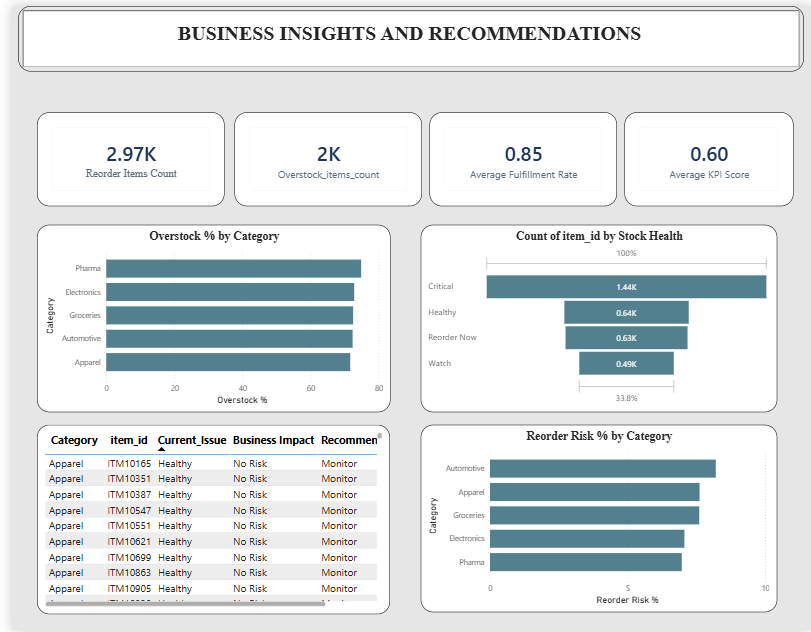

What the dashboard file says about the page in this screenshot:
{"tool":"powerbi","page":{"name":"Page 4","canvas":[1280,1000],"ordinal":3},"visuals":[{"type":"shape","box":[10,0,1256.7,105],"z":0},{"type":"textbox","box":[21.4,20,1228.6,72.9],"z":1000},{"type":"cardVisual","fields":{"Data":["Measures (2).Reorder Items Count"]},"box":[40,170,300,150],"z":2000},{"type":"cardVisual","fields":{"Data":["Measures (2).Overstock_items_count"]},"box":[355,170,300,150],"z":3000},{"type":"cardVisual","fields":{"Data":["Measures (2).Average Fulfillment Rate"]},"box":[668.3,170,300,150],"z":4000},{"type":"cardVisual","fields":{"Data":["Measures (2).Average KPI Score"]},"box":[980,170,270,150],"z":5000},{"type":"tableEx","fields":{"Values":["logistics_dataset.category","logistics_dataset.item_id","logistics_dataset.Current_Issue","logistics_dataset.Business Impact","logistics_dataset.Recommended Action"]},"box":[40,670,565,303.3],"z":6000},{"type":"clusteredBarChart","fields":{"Category":["logistics_dataset.category"],"Y":["Measures (2).Overstock %"]},"box":[40,350,565.7,300],"z":7000},{"type":"clusteredBarChart","fields":{"Category":["logistics_dataset.category"],"Y":["Measures (2).Reorder Risk %"]},"box":[654.3,670,570,300],"z":8000},{"type":"funnel","fields":{"Category":["logistics_dataset.Stock Health"],"Y":["Count(logistics_dataset.item_id)"]},"box":[654.3,350,570,300],"z":9000}]}

Visuals, with their boxes in screenshot pixels (x1, y1, x2, y2), scaled from the page's 1280x1000 canvas onto the 811x632 screenshot:
shape: 6/0/803/66
textbox: 14/13/792/59
cardVisual - Measures (2).Reorder Items Count: 25/107/215/202
cardVisual - Measures (2).Overstock_items_count: 225/107/415/202
cardVisual - Measures (2).Average Fulfillment Rate: 423/107/614/202
cardVisual - Measures (2).Average KPI Score: 621/107/792/202
tableEx - logistics_dataset.category x logistics_dataset.item_id: 25/423/383/615
clusteredBarChart - logistics_dataset.category x Measures (2).Overstock %: 25/221/384/411
clusteredBarChart - logistics_dataset.category x Measures (2).Reorder Risk %: 415/423/776/613
funnel - logistics_dataset.Stock Health x Count(logistics_dataset.item_id): 415/221/776/411
